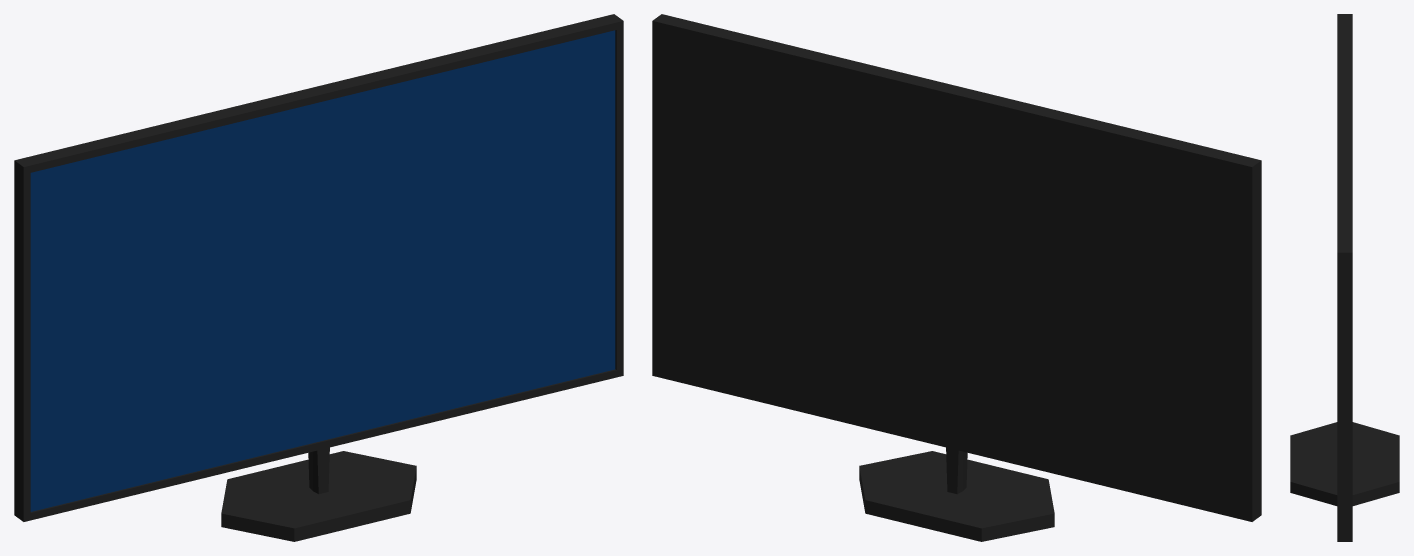
File: screen2.gltf
3 views of the same model, side by side, from view 1: azimuth 30°, elevation 25°; view 2: azimuth 150°, elevation 25°; view 3: azimuth 270°, elevation 25° (orthographic). The views are drawn at different scales.
Visible parts, largest first — view 1: Cube; view 2: Cube; view 3: Cube.
Boxes of the visible parts, x1,y1,x2,y2 form: Cube: (14, 14, 623, 541); Cube: (652, 14, 1261, 541); Cube: (1290, 14, 1399, 541).
Size of the model in its own units: 1.27 by 0.8326 by 0.2454.
1 material, 1 textured.
